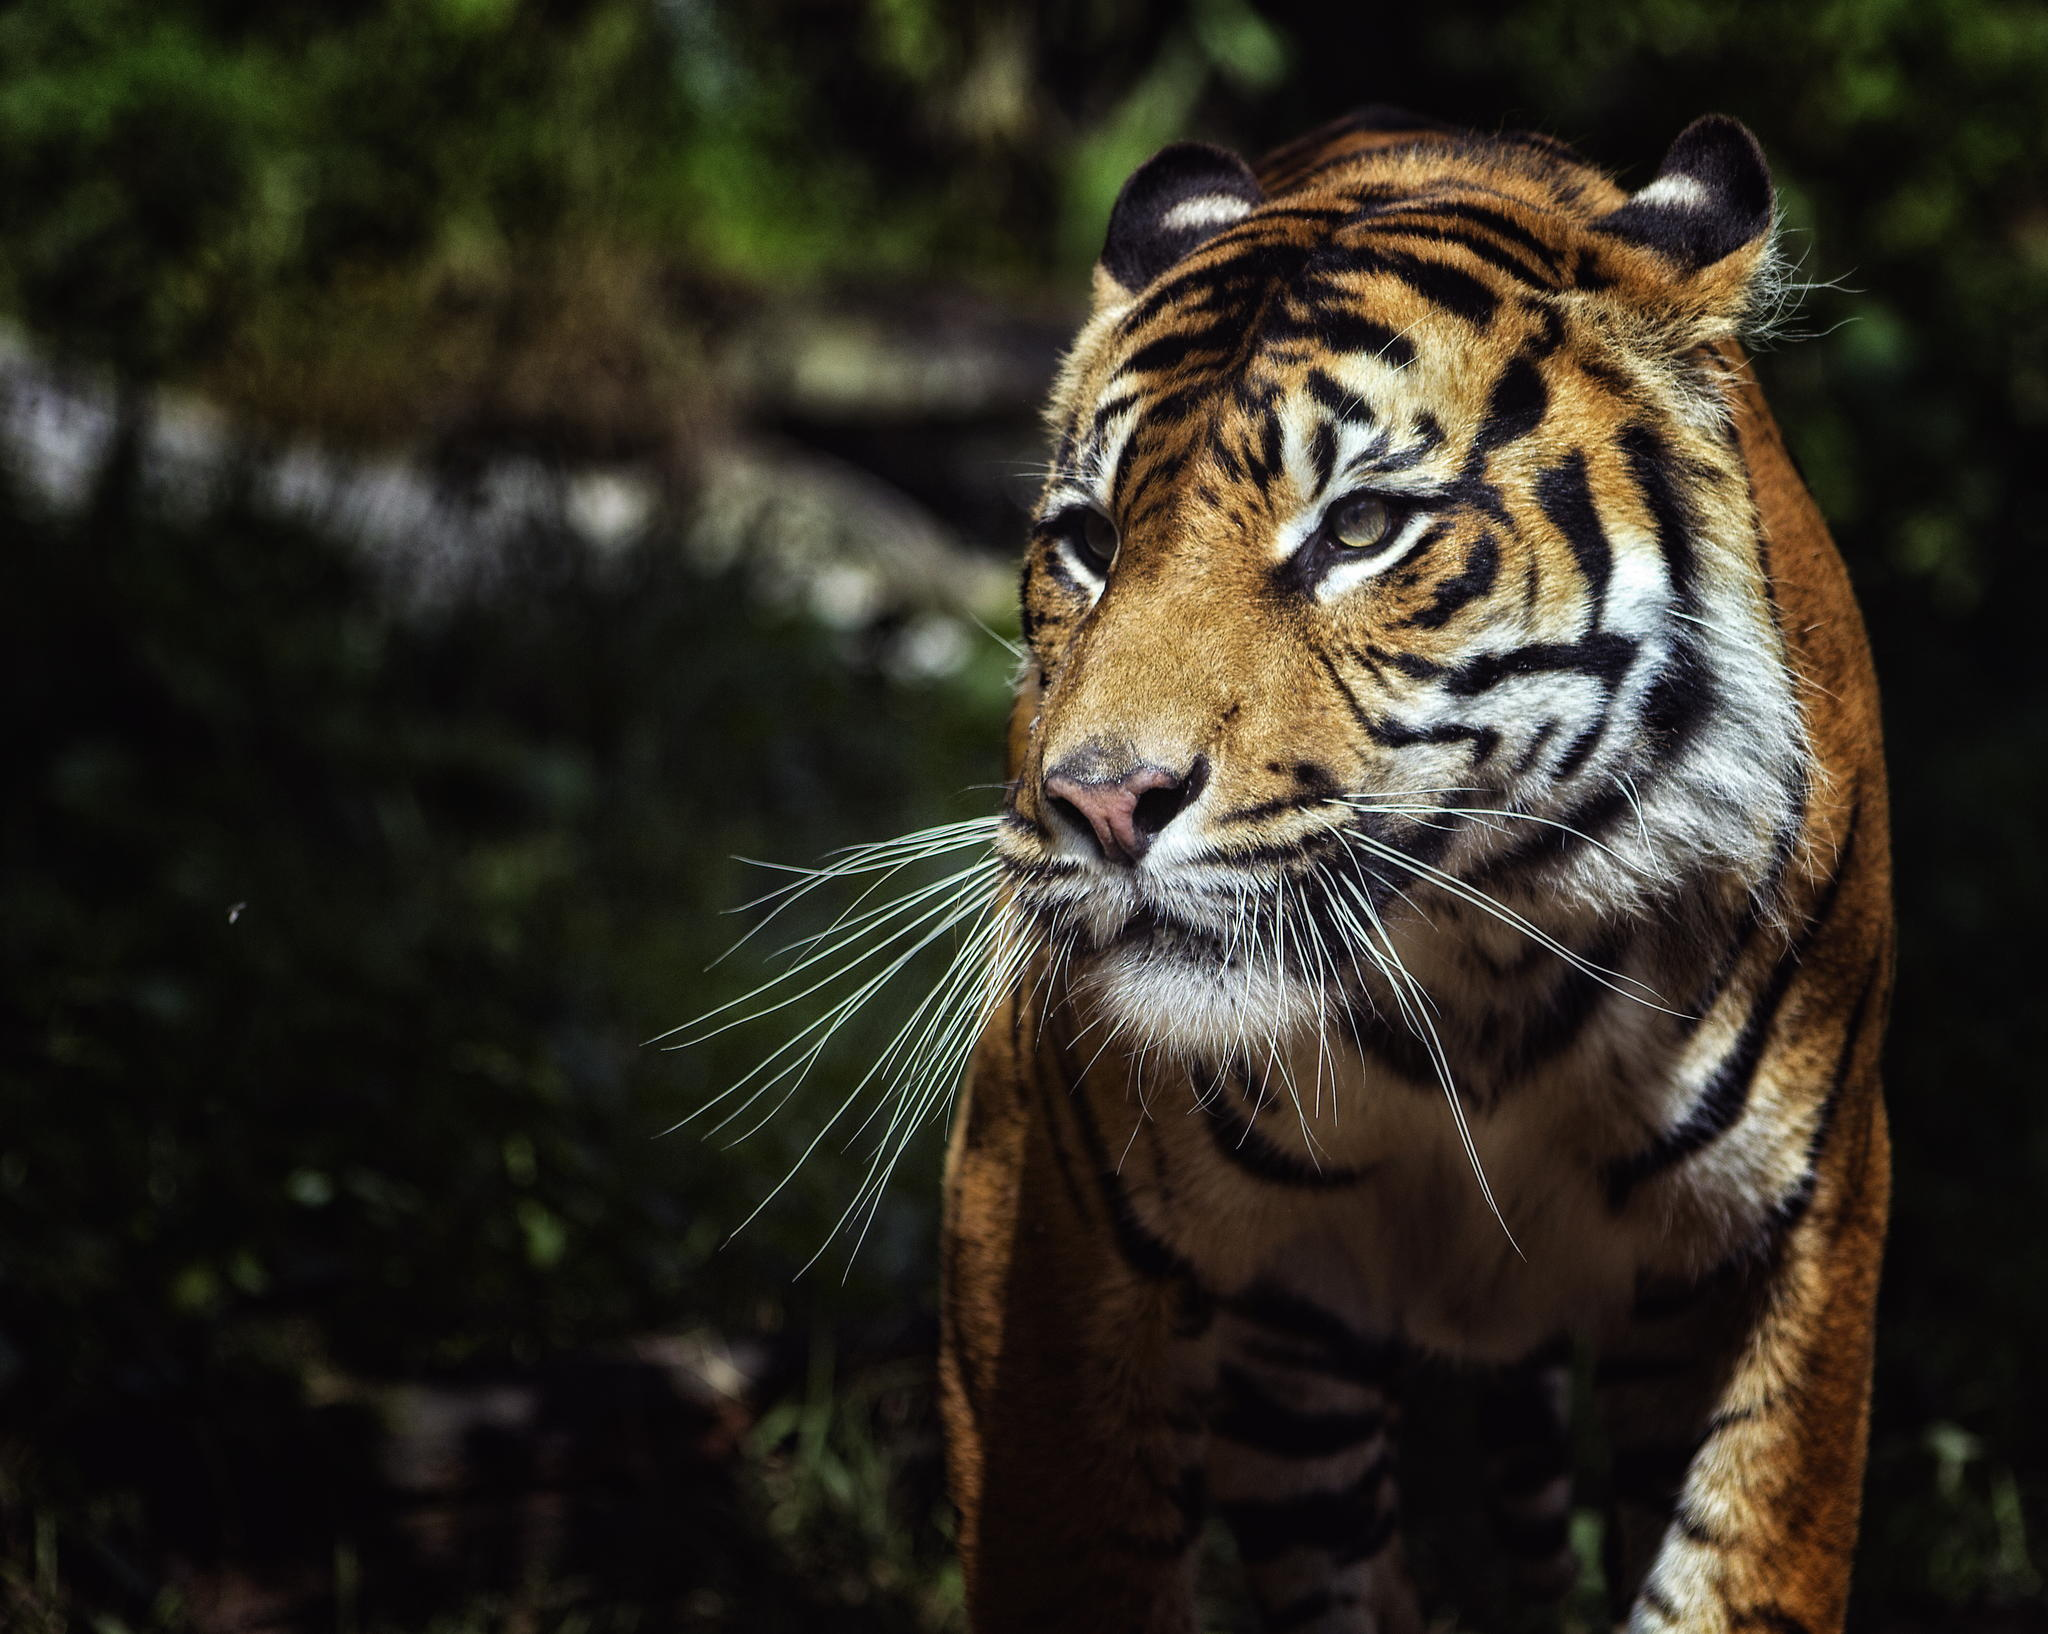tiger: (966, 95, 1876, 1599)
